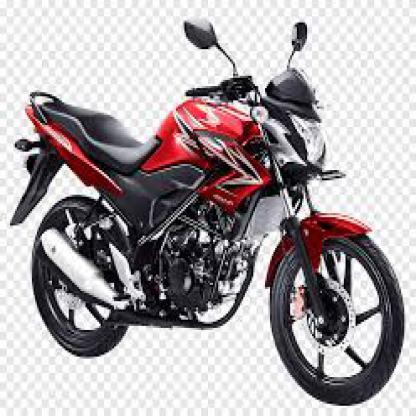Motorcycle: (9, 4, 406, 405)
